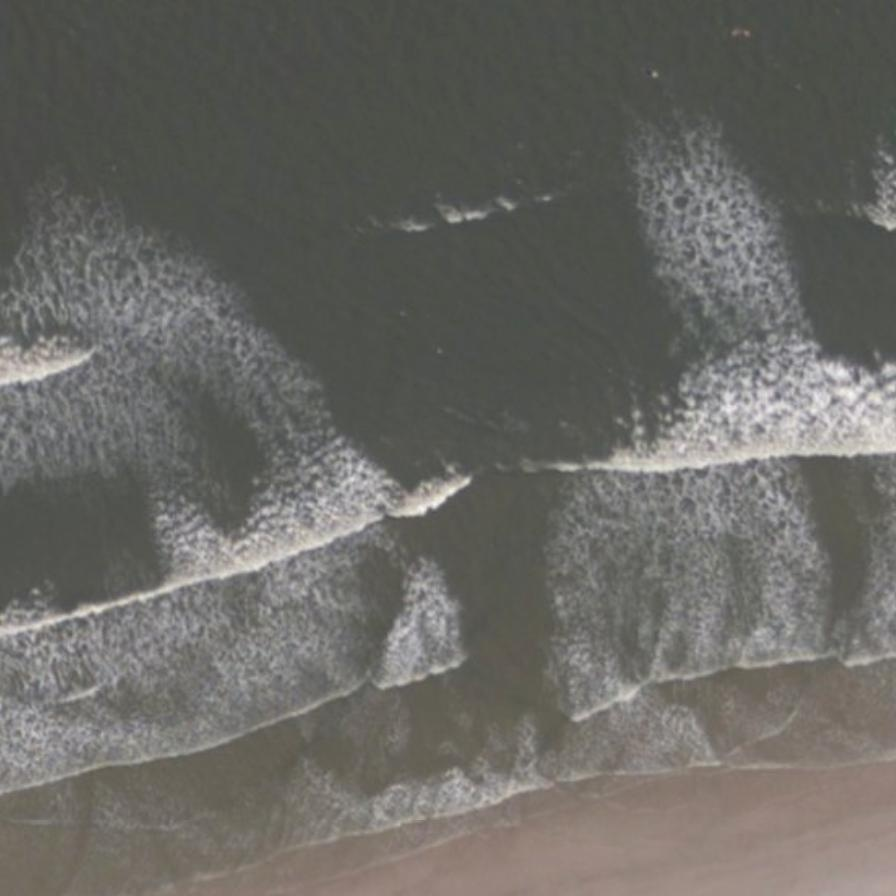rip_current: (213, 157, 635, 716)
